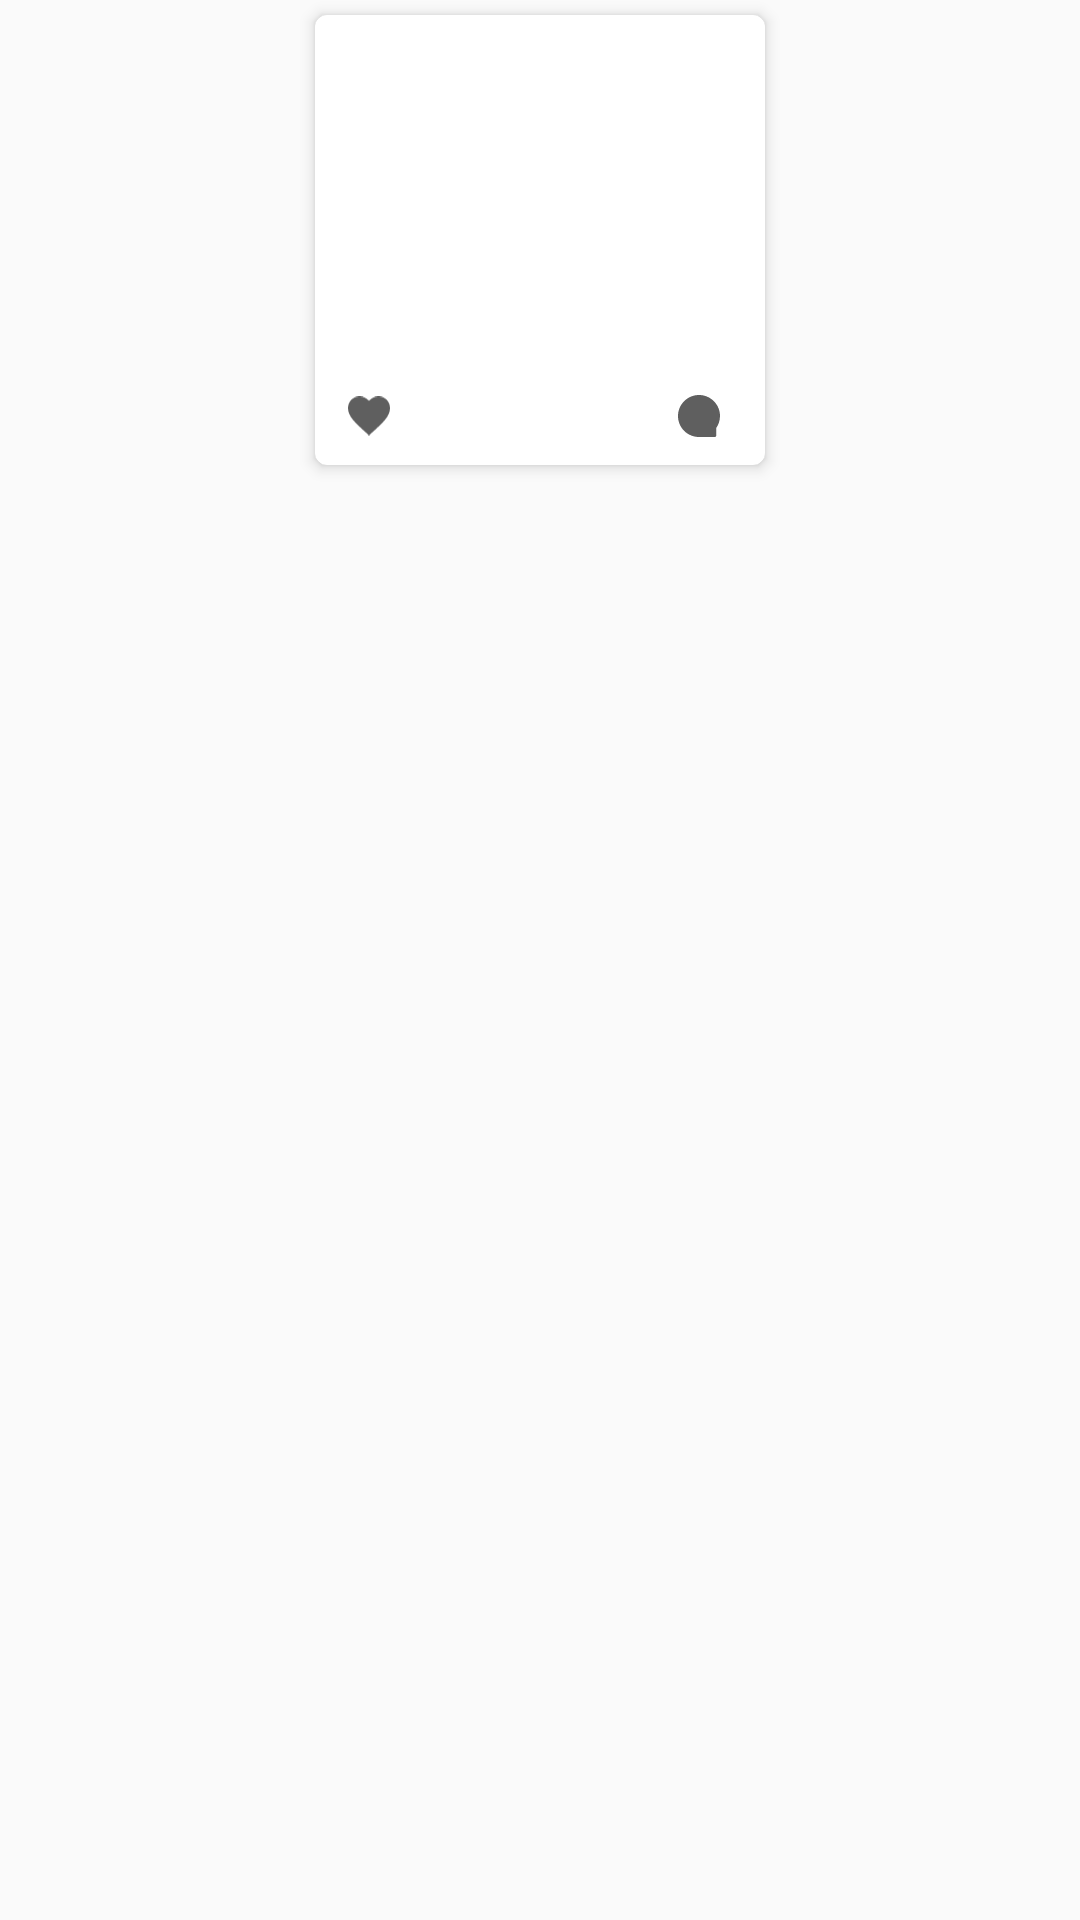

Icons on this 1080px x 1920px Android screen, each with its box as (x1, y1, x2, y2):
comment feed: (678, 395, 720, 437)
like feed: (348, 396, 390, 436)
